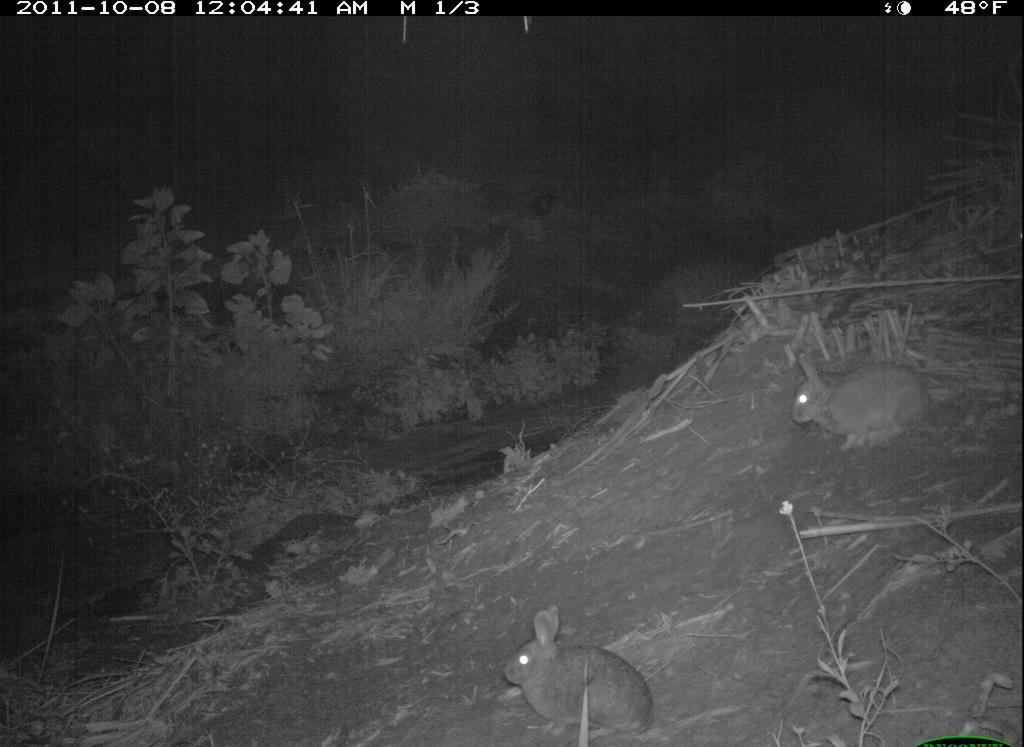rabbit: (491, 599, 659, 743), (785, 350, 936, 459)
